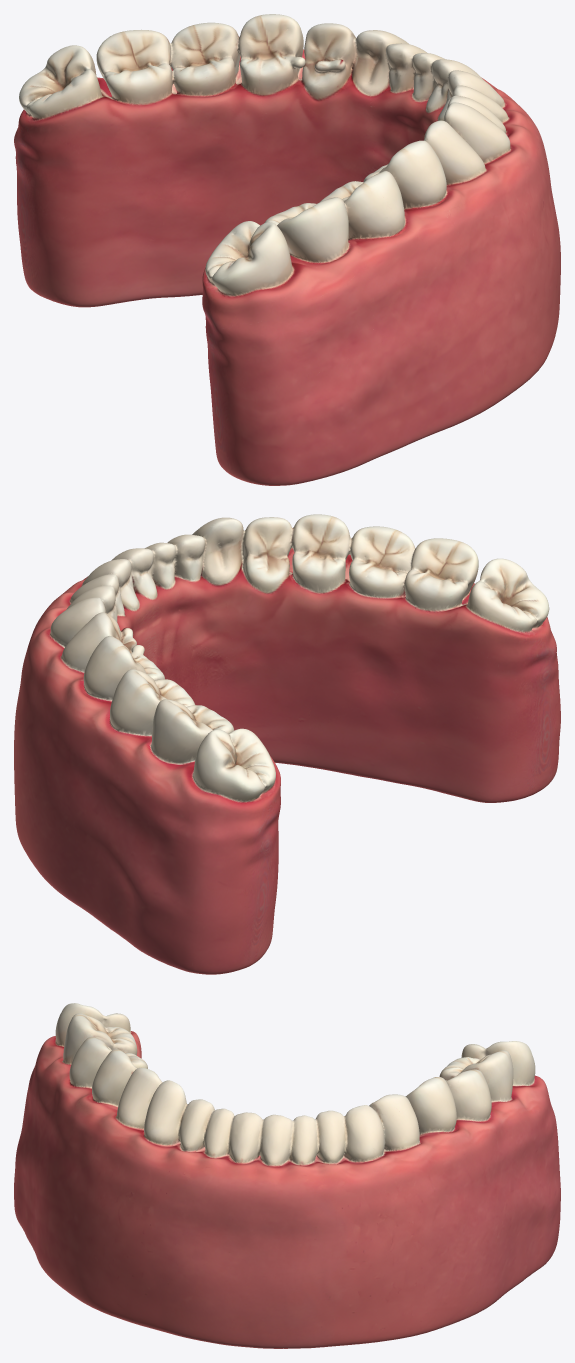
Rendered from arcade_upper.glb.
The picture shows the model from 3 angles, top to bottom: view 1: azimuth 30°, elevation 25°; view 2: azimuth 150°, elevation 25°; view 3: azimuth 270°, elevation 25°; orthographic projection. The views are drawn at different scales.
Parts seen in each view (by area): view 1: cerrada_arcada_superior; view 2: cerrada_arcada_superior; view 3: cerrada_arcada_superior.
Boxes of the visible parts, x1,y1,x2,y2 form: cerrada_arcada_superior: [14, 14, 560, 485]; cerrada_arcada_superior: [14, 514, 560, 974]; cerrada_arcada_superior: [14, 1003, 560, 1348].
Size of the model in its own units: 0.9817 by 0.6122 by 1.26.
Materials: 1 (1 with a texture image).
